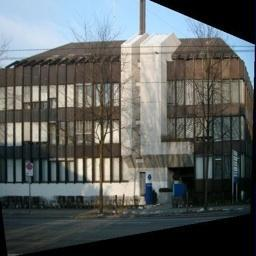building: (0, 22, 247, 211)
